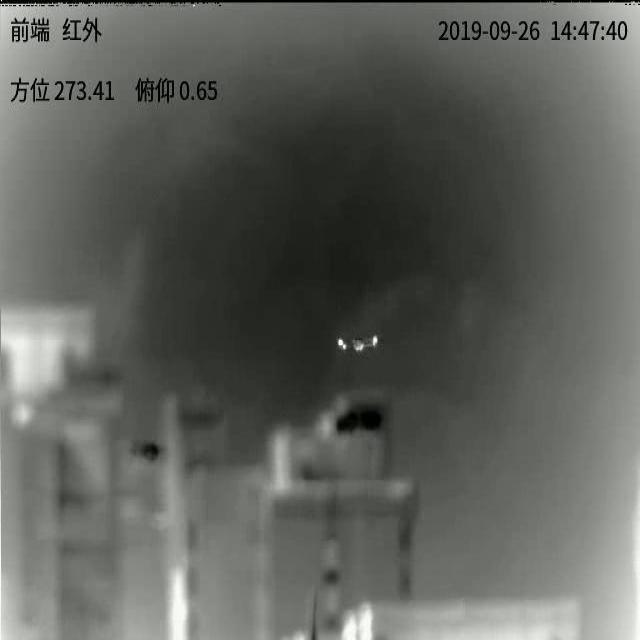drone: (336, 335, 379, 352)
